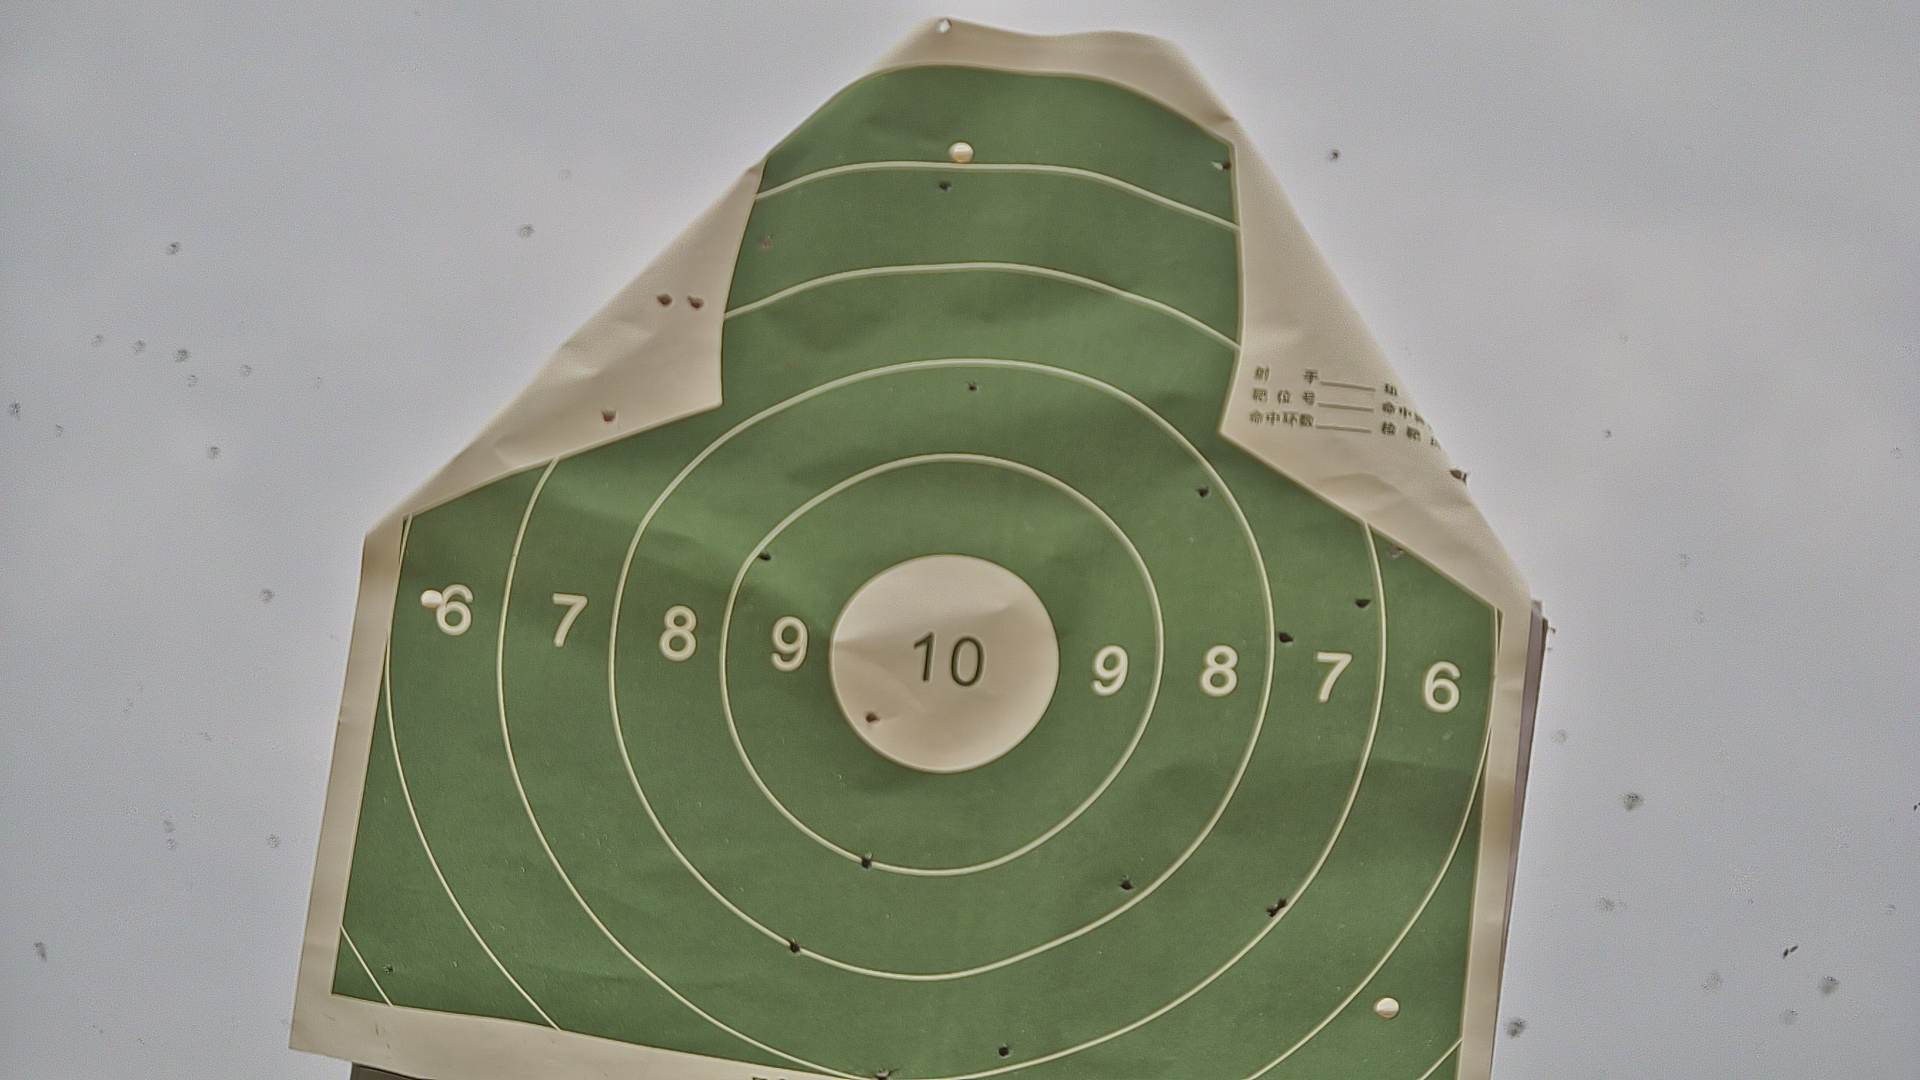hole: (1276, 629, 1295, 646), (1209, 157, 1230, 171), (758, 235, 775, 252), (1385, 545, 1403, 560), (1352, 595, 1371, 609), (1195, 483, 1209, 500), (858, 852, 872, 870), (873, 1069, 898, 1079), (787, 942, 804, 955), (997, 1044, 1014, 1058), (1120, 876, 1133, 891), (938, 175, 949, 193), (1275, 895, 1288, 910), (756, 549, 771, 560), (865, 709, 878, 723), (968, 378, 977, 392), (1269, 905, 1276, 919), (385, 963, 394, 975)
kernel: (942, 657, 945, 669)
target: (328, 61, 1505, 1080)
ten: (828, 549, 1062, 775)
